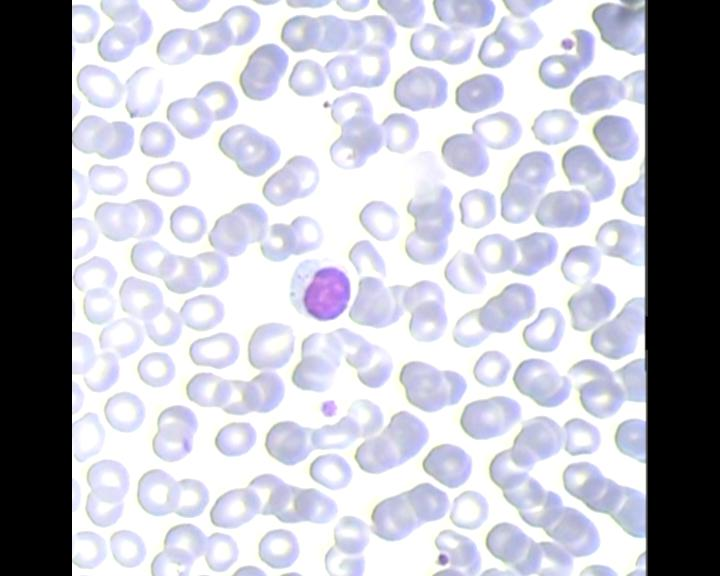lymp: (286, 251, 356, 324)
